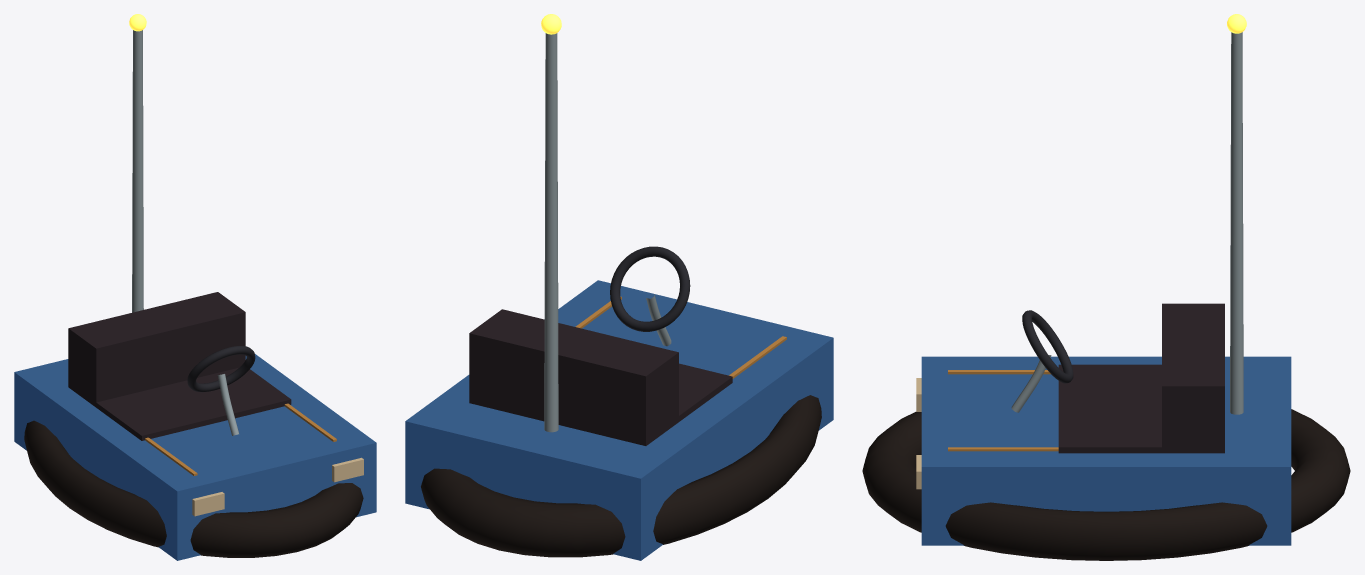
File: mia-bumper_car.glb
The picture shows the model from 3 angles, left to right: view 1: azimuth 30°, elevation 25°; view 2: azimuth 150°, elevation 25°; view 3: azimuth 270°, elevation 25°; orthographic projection. The views are drawn at different scales.
Visible parts, largest first — view 1: Body_night-glass, Body_leather, Body_black, Body_steel, Body_iron, Body_ivory, Body_brass; view 2: Body_night-glass, Body_leather, Body_black, Body_steel, Body_iron, Body_brass; view 3: Body_night-glass, Body_black, Body_leather, Body_steel, Body_iron, Body_brass.
Part boxes in pixels (x1,y1,x2,y2): Body_night-glass: [14, 354, 376, 560]; Body_leather: [68, 292, 291, 440]; Body_black: [24, 420, 363, 557]; Body_steel: [132, 30, 239, 435]; Body_iron: [187, 346, 255, 392]; Body_ivory: [192, 457, 363, 516]; Body_brass: [145, 403, 336, 475]; Body_night-glass: [405, 280, 833, 560]; Body_leather: [469, 309, 732, 445]; Body_black: [421, 395, 821, 557]; Body_steel: [544, 33, 671, 432]; Body_iron: [610, 246, 690, 331]; Body_brass: [575, 296, 786, 378]; Body_night-glass: [921, 356, 1291, 545]; Body_black: [862, 409, 1350, 560]; Body_leather: [1058, 303, 1224, 453]; Body_steel: [1011, 32, 1243, 414]; Body_iron: [1022, 310, 1073, 383]; Body_brass: [948, 370, 1058, 451].
Bounding box in the file's own units: 1.61 × 2.44 × 2.25.
